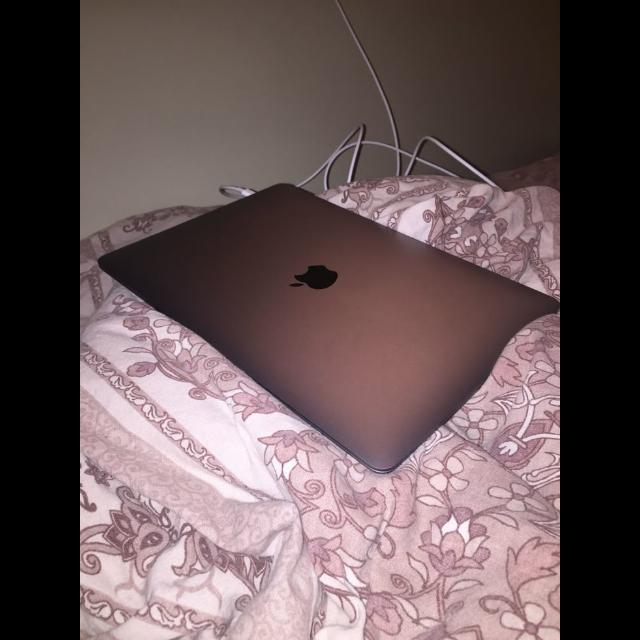laptop: (98, 184, 559, 472)
